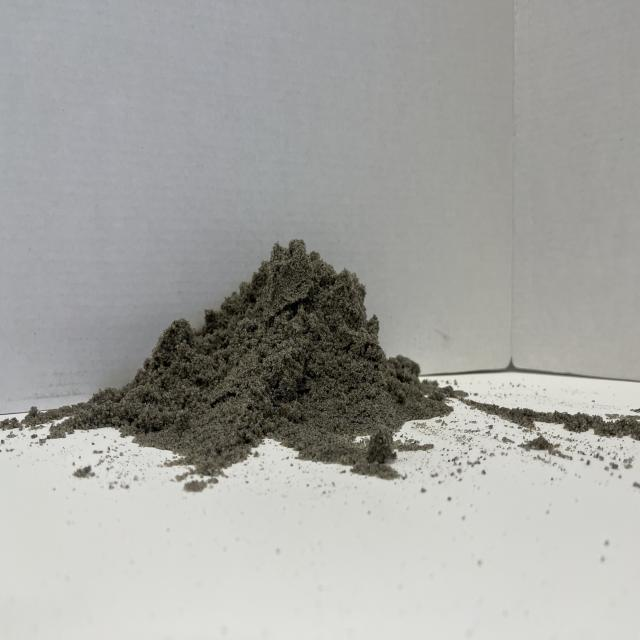sand: (49, 219, 468, 496)
